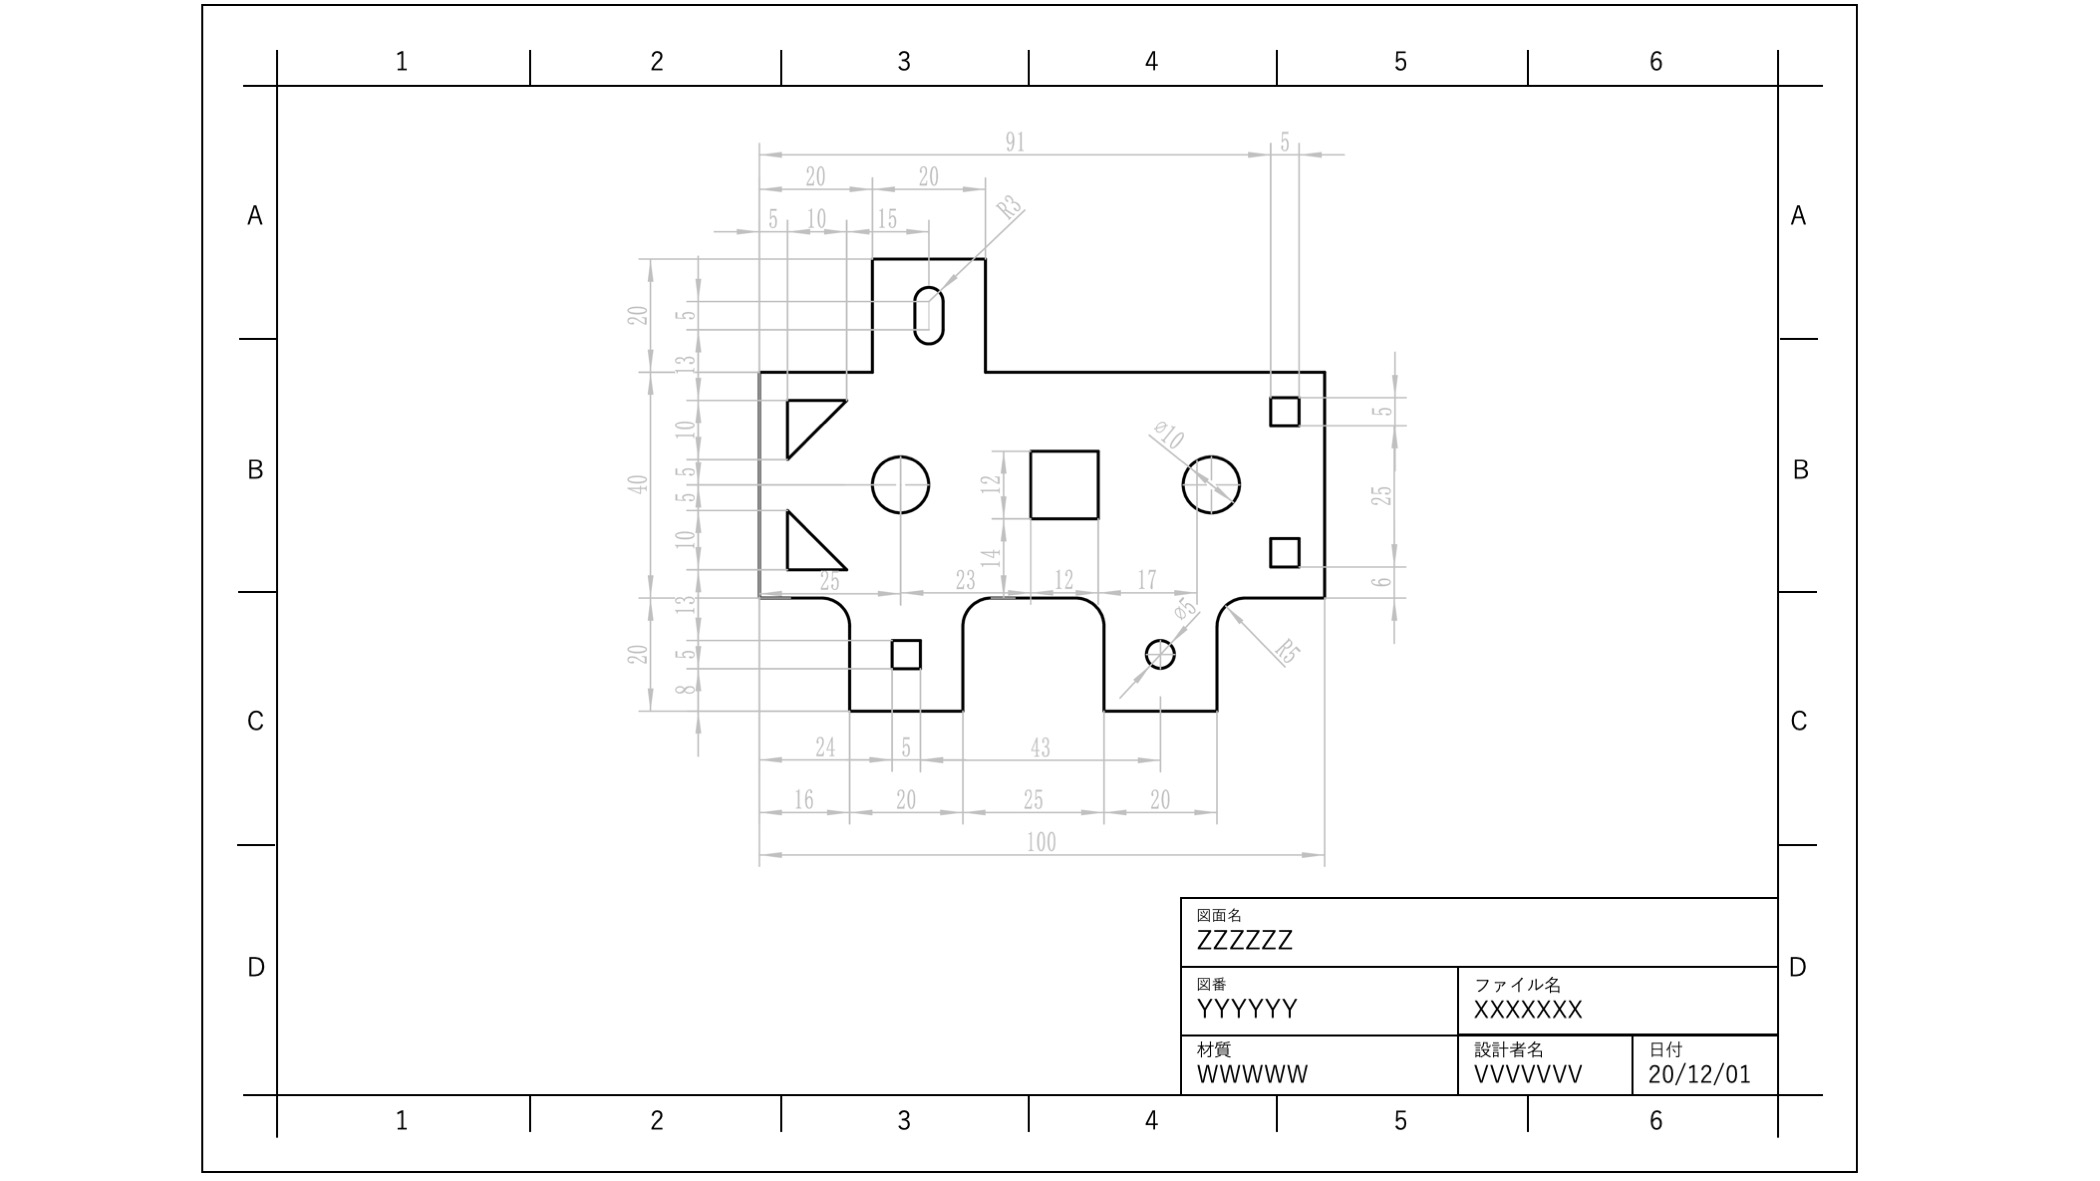circle: (861, 448, 939, 521), (1178, 448, 1246, 519), (1141, 632, 1181, 678)
rectangle: (1020, 440, 1108, 526), (1263, 526, 1307, 572), (884, 627, 929, 671), (1263, 386, 1305, 428)
round_rectangle: (907, 274, 949, 349)
triangle: (777, 503, 847, 580), (777, 389, 850, 459)
